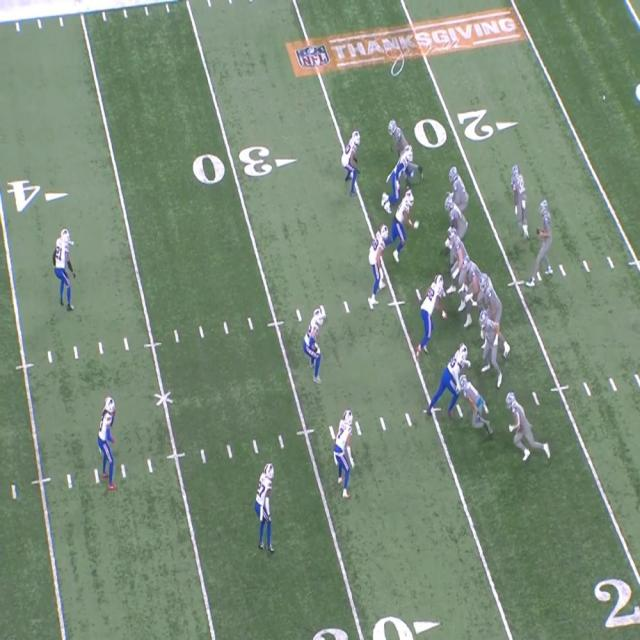center: (448, 227, 468, 296)
db: (100, 394, 118, 486), (257, 460, 275, 550), (335, 411, 353, 500), (56, 228, 72, 308), (346, 126, 362, 190)
lb: (371, 225, 391, 304), (305, 307, 323, 387)
qb: (538, 197, 554, 275)
skill: (460, 374, 494, 442), (509, 392, 535, 458), (388, 116, 412, 176), (514, 166, 528, 236)
